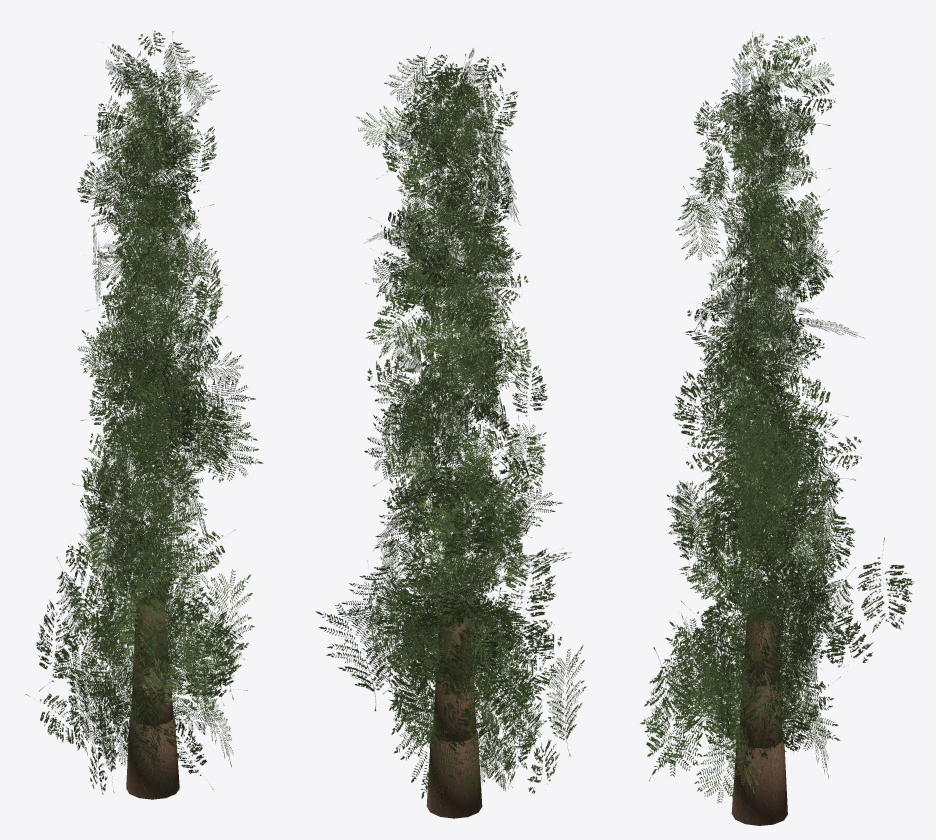
File: cypress_4.glb
3 renders of one model, left to right at view 1: azimuth 30°, elevation 25°; view 2: azimuth 150°, elevation 25°; view 3: azimuth 270°, elevation 25°, orthographic. The views are drawn at different scales.
Parts seen in each view (by area): view 1: cypress; view 2: cypress; view 3: cypress.
Boxes of the visible parts, x1=… form: cypress: x1=26, y1=31, x2=263, y2=799; cypress: x1=315, y1=47, x2=586, y2=818; cypress: x1=640, y1=32, x2=914, y2=825.
Bounding box in the file's own units: 3.08 × 9.45 × 3.21.
Materials: 2 (2 with a texture image).
